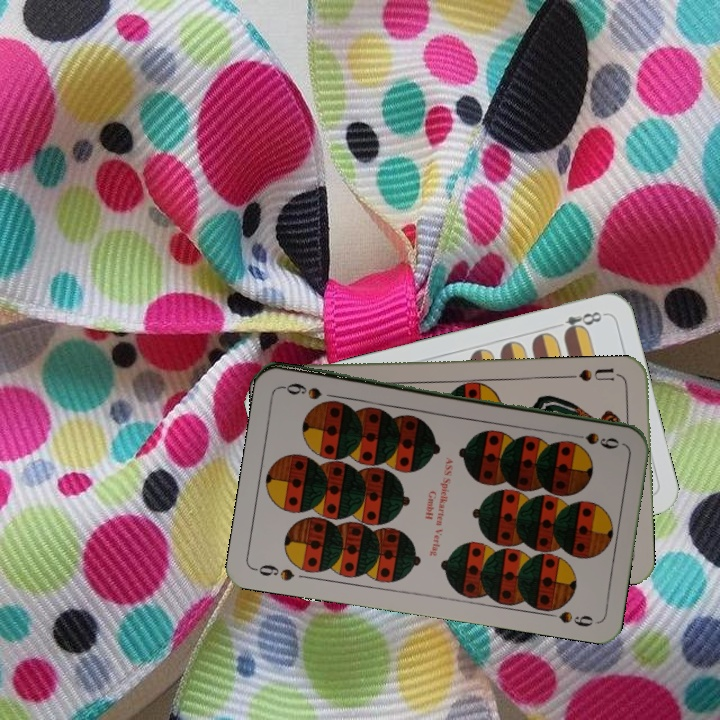E8: (559, 307, 608, 338)
S9: (565, 428, 621, 450), (251, 560, 297, 584)
SU: (565, 364, 624, 384)
